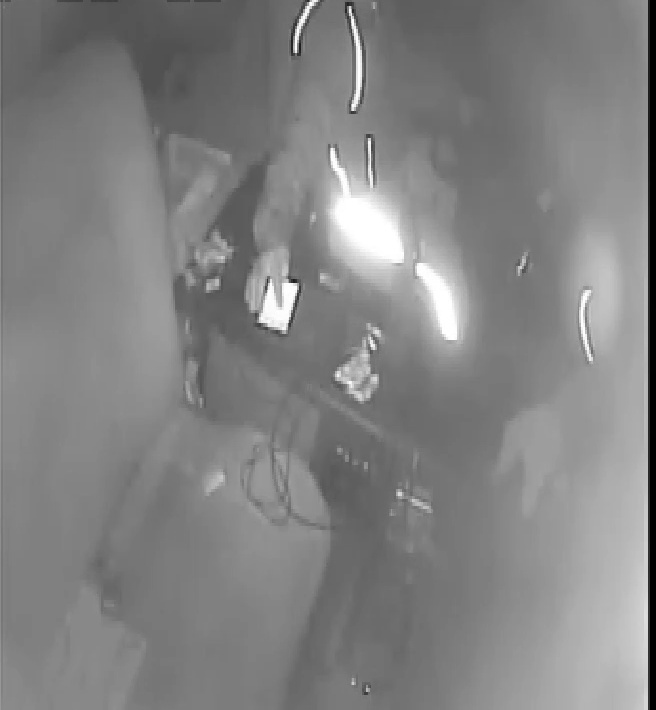cellphone: (255, 265, 300, 337)
